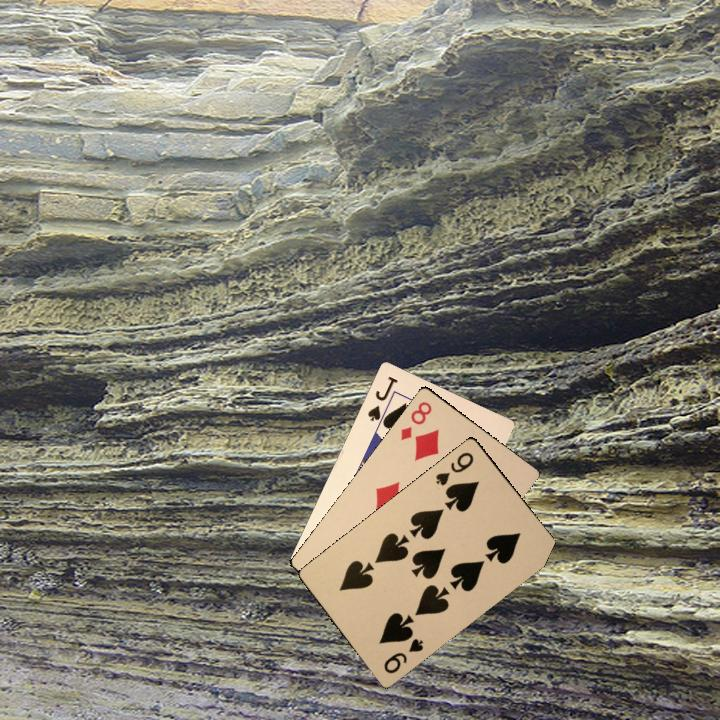8d: (396, 397, 435, 443)
9s: (380, 634, 426, 676), (431, 448, 476, 488)
Js: (363, 372, 400, 426)
